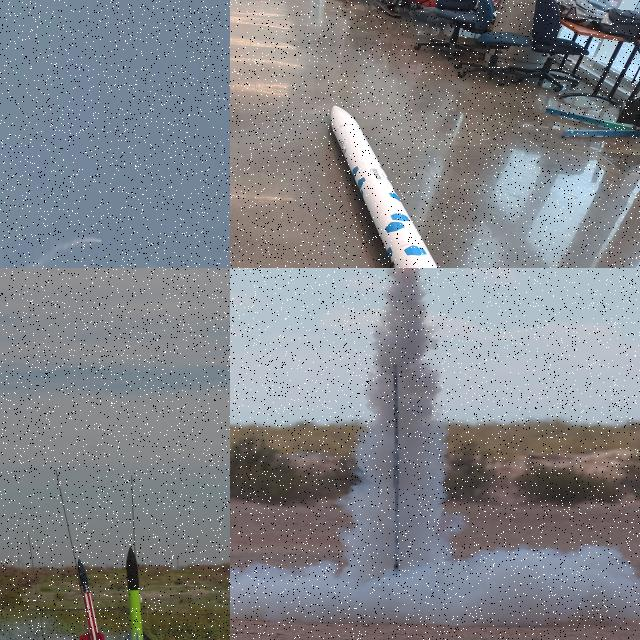Rocket: (330, 104, 439, 268), (120, 545, 157, 640), (77, 558, 105, 640), (101, 240, 103, 243)
